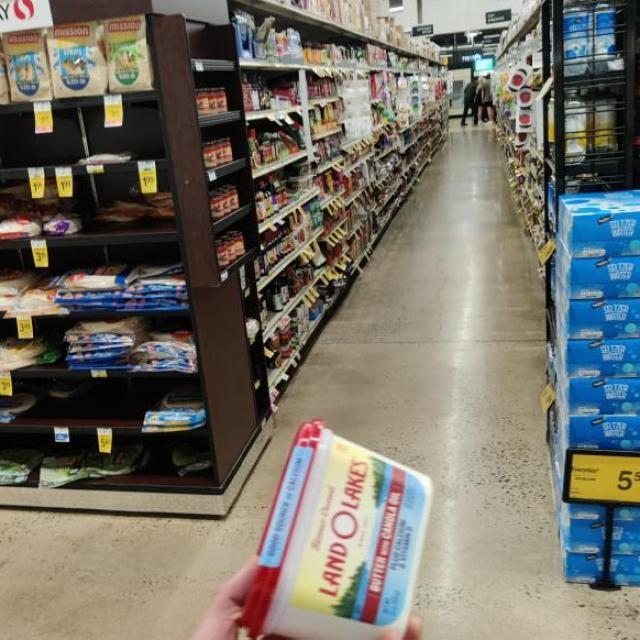Butter: (242, 408, 433, 639)
